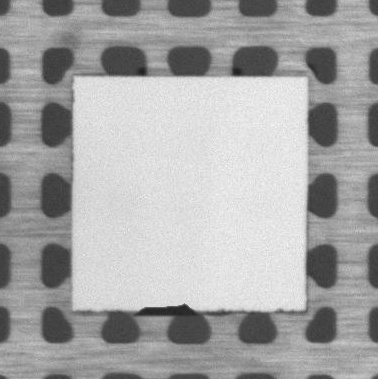DIE_BROKEN: (131, 301, 199, 315)
